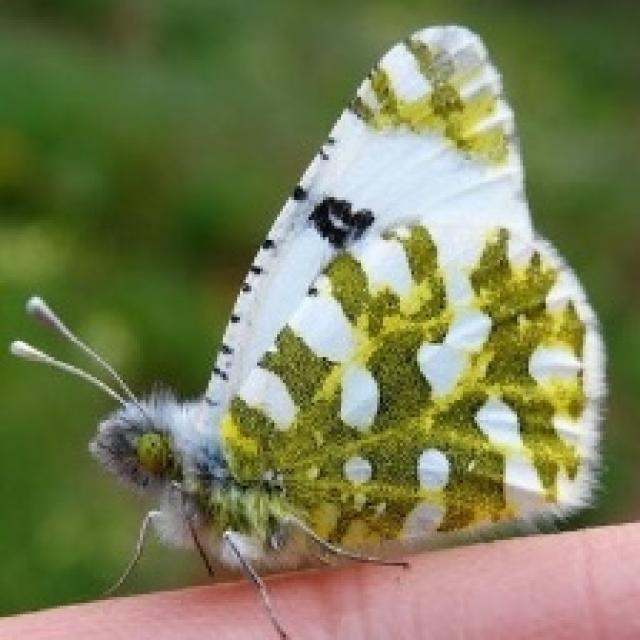butterfly: (6, 20, 608, 637)
